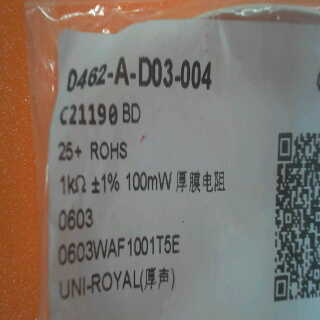1kR: (55, 171, 91, 199)
